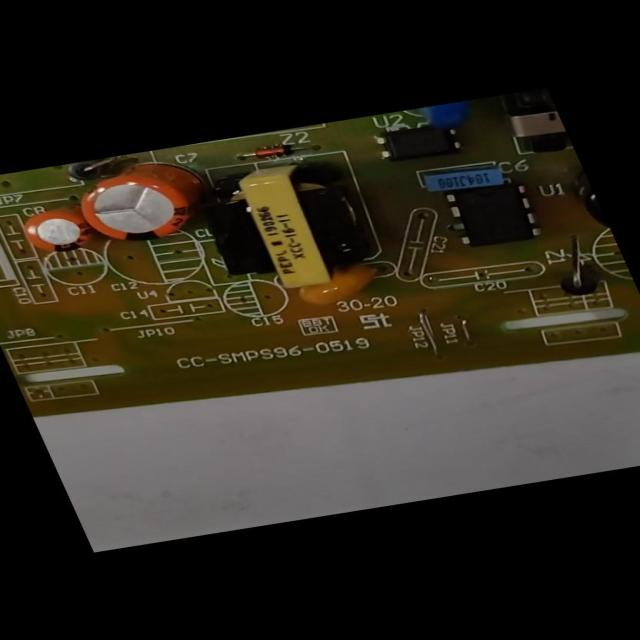Cap1: (63, 164, 207, 250)
Cap2: (12, 205, 97, 259)
MOSFET: (440, 184, 546, 246)
Mov: (416, 100, 477, 130)
Transformer: (181, 158, 386, 296), (495, 88, 572, 155)
